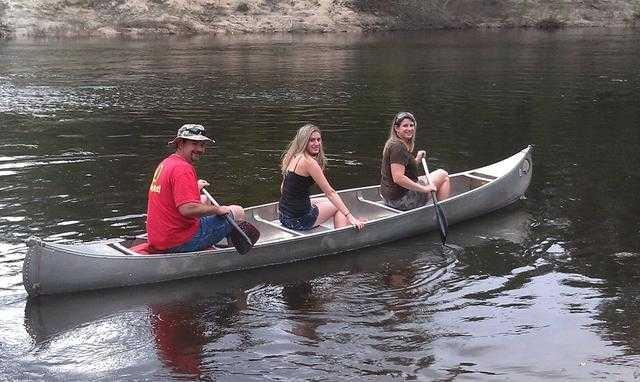kayak: (18, 146, 535, 293)
